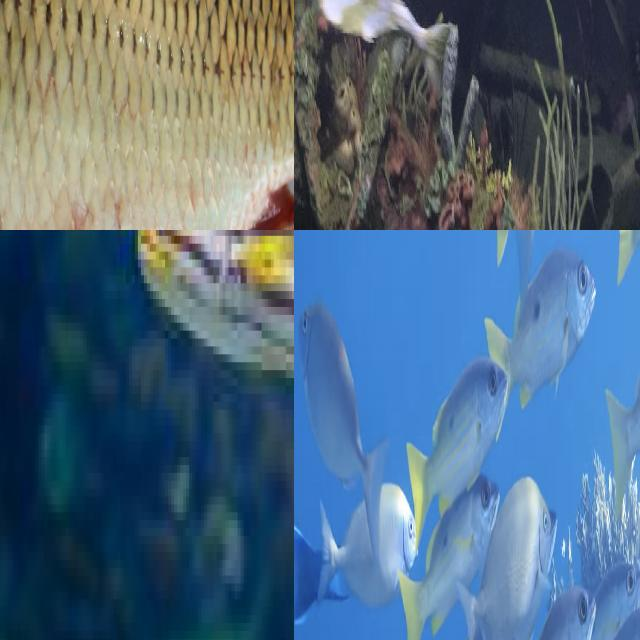fish: (294, 230, 640, 640), (0, 0, 294, 230), (122, 230, 294, 488), (294, 0, 447, 115)
